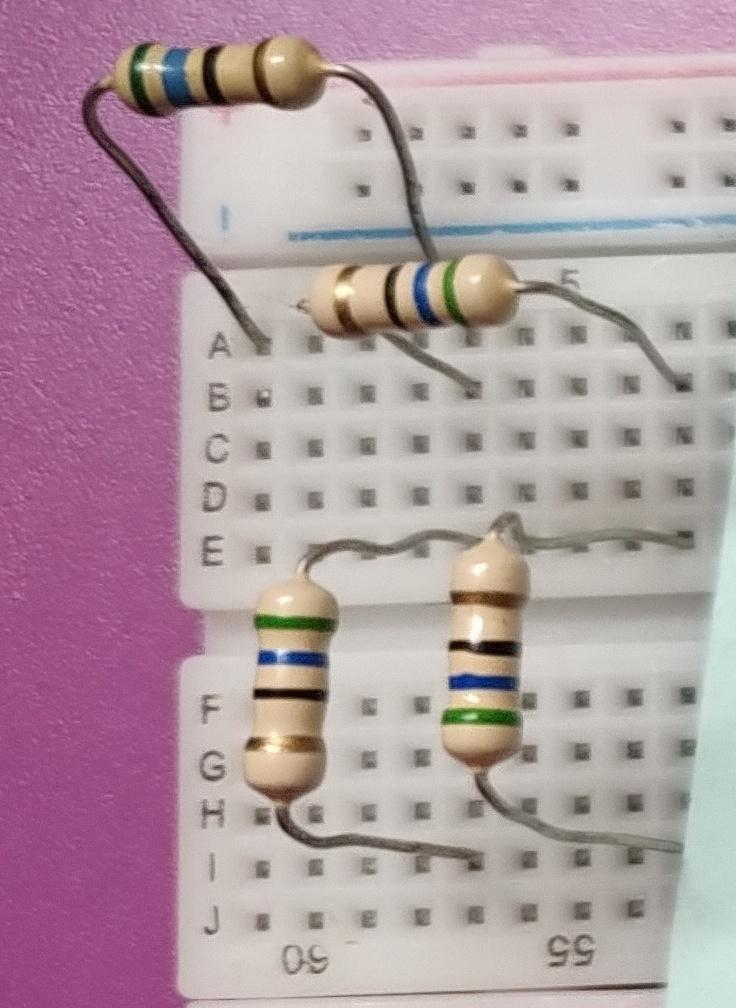resistor: (423, 525, 546, 794), (225, 557, 339, 818), (97, 23, 363, 129), (295, 245, 555, 339)
